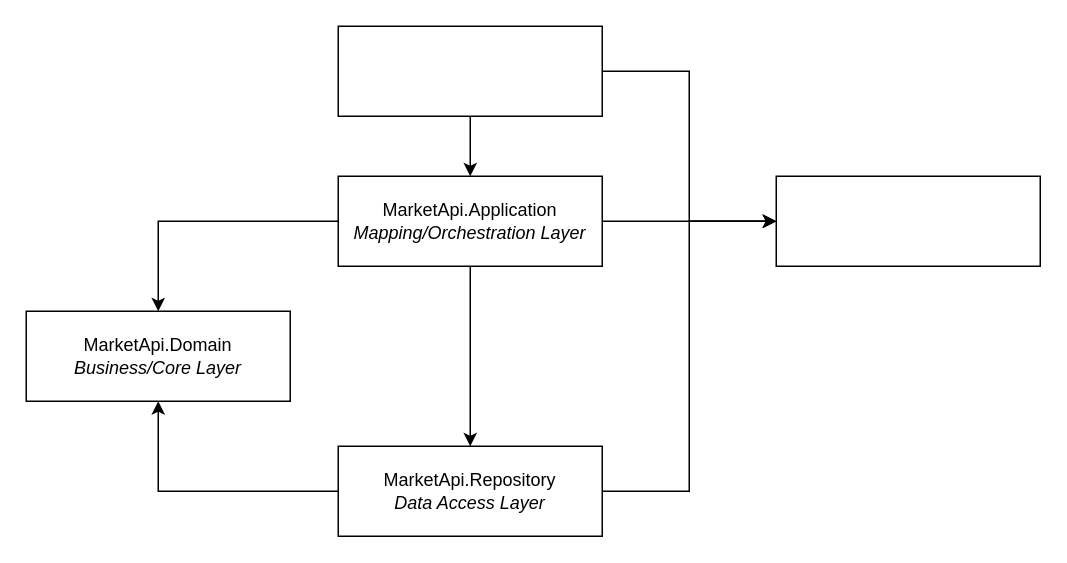
Some shapes in this 1067 by 563 pixel diagram are drawn without their labels. The shapes that lost their labels are listed below. From the top down, each one's centre as x and y in pixels, then its label:
pixel 469 70: MarketApi Api Rest Layer
pixel 907 220: MarketApi.CrossCutting Infrastructure/Common Layer
